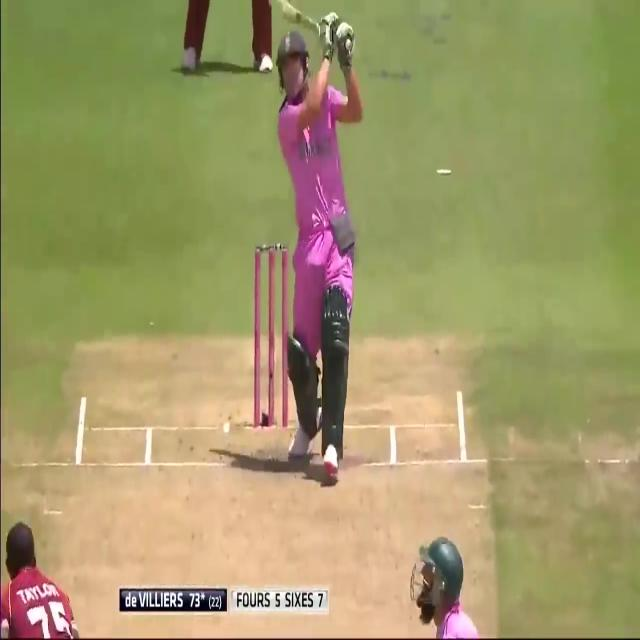Ball: (261, 1, 359, 474)
Fielder: (1, 523, 78, 640), (405, 524, 480, 639)
